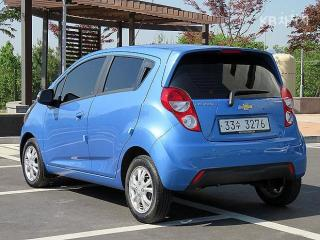2: (250, 119, 255, 129)
3: (224, 120, 230, 131), (244, 119, 250, 129), (230, 120, 235, 130)
6: (260, 119, 266, 128)
7: (255, 119, 260, 129)
plate: (213, 113, 275, 136)
수: (235, 120, 241, 130)
